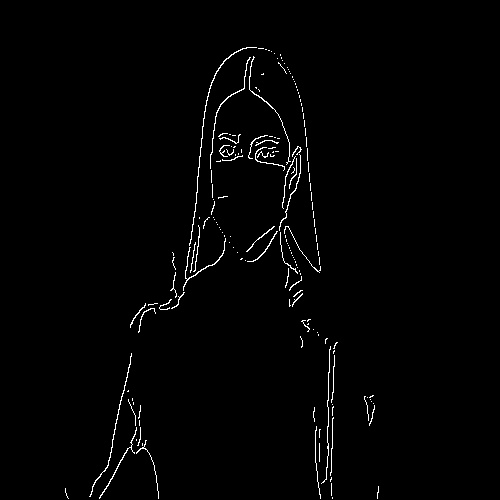mask: (200, 156, 290, 275)
